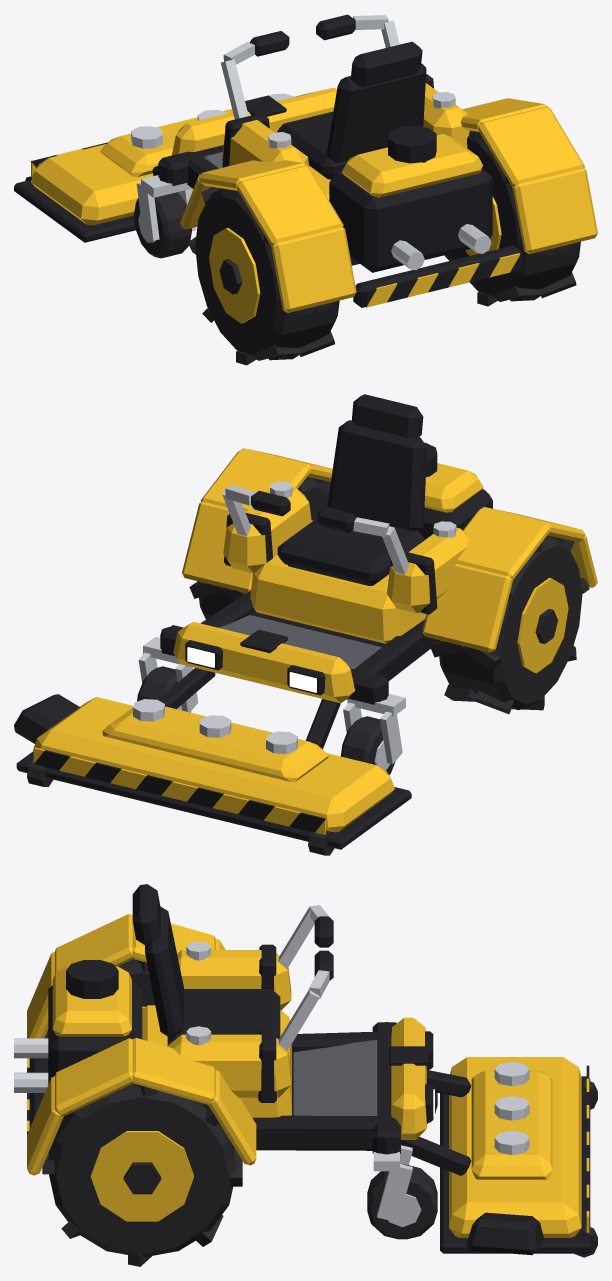
File: mower_zeroturn.glb
3 renders of one model, top to bottom at view 1: azimuth 30°, elevation 25°; view 2: azimuth 150°, elevation 25°; view 3: azimuth 270°, elevation 25°, orthographic. The views are drawn at different scales.
Parts seen in each view (by area): view 1: Metal__FFC828, SmoothPlastic__1E1E24, Plastic__28282C, Metal__D4D8E0; view 2: Metal__FFC828, SmoothPlastic__1E1E24, Plastic__28282C, Metal__D4D8E0, DiamondPlate__60626A, Neon__FFF8DC; view 3: Metal__FFC828, SmoothPlastic__1E1E24, Plastic__28282C, Metal__D4D8E0, DiamondPlate__60626A.
Part boxes in pixels (left/top/right/bottom): Metal__FFC828: left=30, top=83, right=597, bottom=323; SmoothPlastic__1E1E24: left=14, top=14, right=521, bottom=307; Plastic__28282C: left=25, top=130, right=580, bottom=365; Metal__D4D8E0: left=131, top=15, right=491, bottom=270; Metal__FFC828: left=33, top=448, right=597, bottom=834; SmoothPlastic__1E1E24: left=14, top=394, right=492, bottom=849; Plastic__28282C: left=27, top=477, right=589, bottom=855; Metal__D4D8E0: left=133, top=481, right=456, bottom=770; DiamondPlate__60626A: left=218, top=615, right=381, bottom=668; Neon__FFF8DC: left=187, top=647, right=316, bottom=692; Metal__FFC828: left=27, top=914, right=589, bottom=1237; SmoothPlastic__1E1E24: left=27, top=884, right=590, bottom=1255; Plastic__28282C: left=42, top=959, right=597, bottom=1266; Metal__D4D8E0: left=14, top=905, right=529, bottom=1227; DiamondPlate__60626A: left=293, top=1040, right=377, bottom=1115.
Size of the model in its own units: 6.98 by 5.11 by 9.32.
